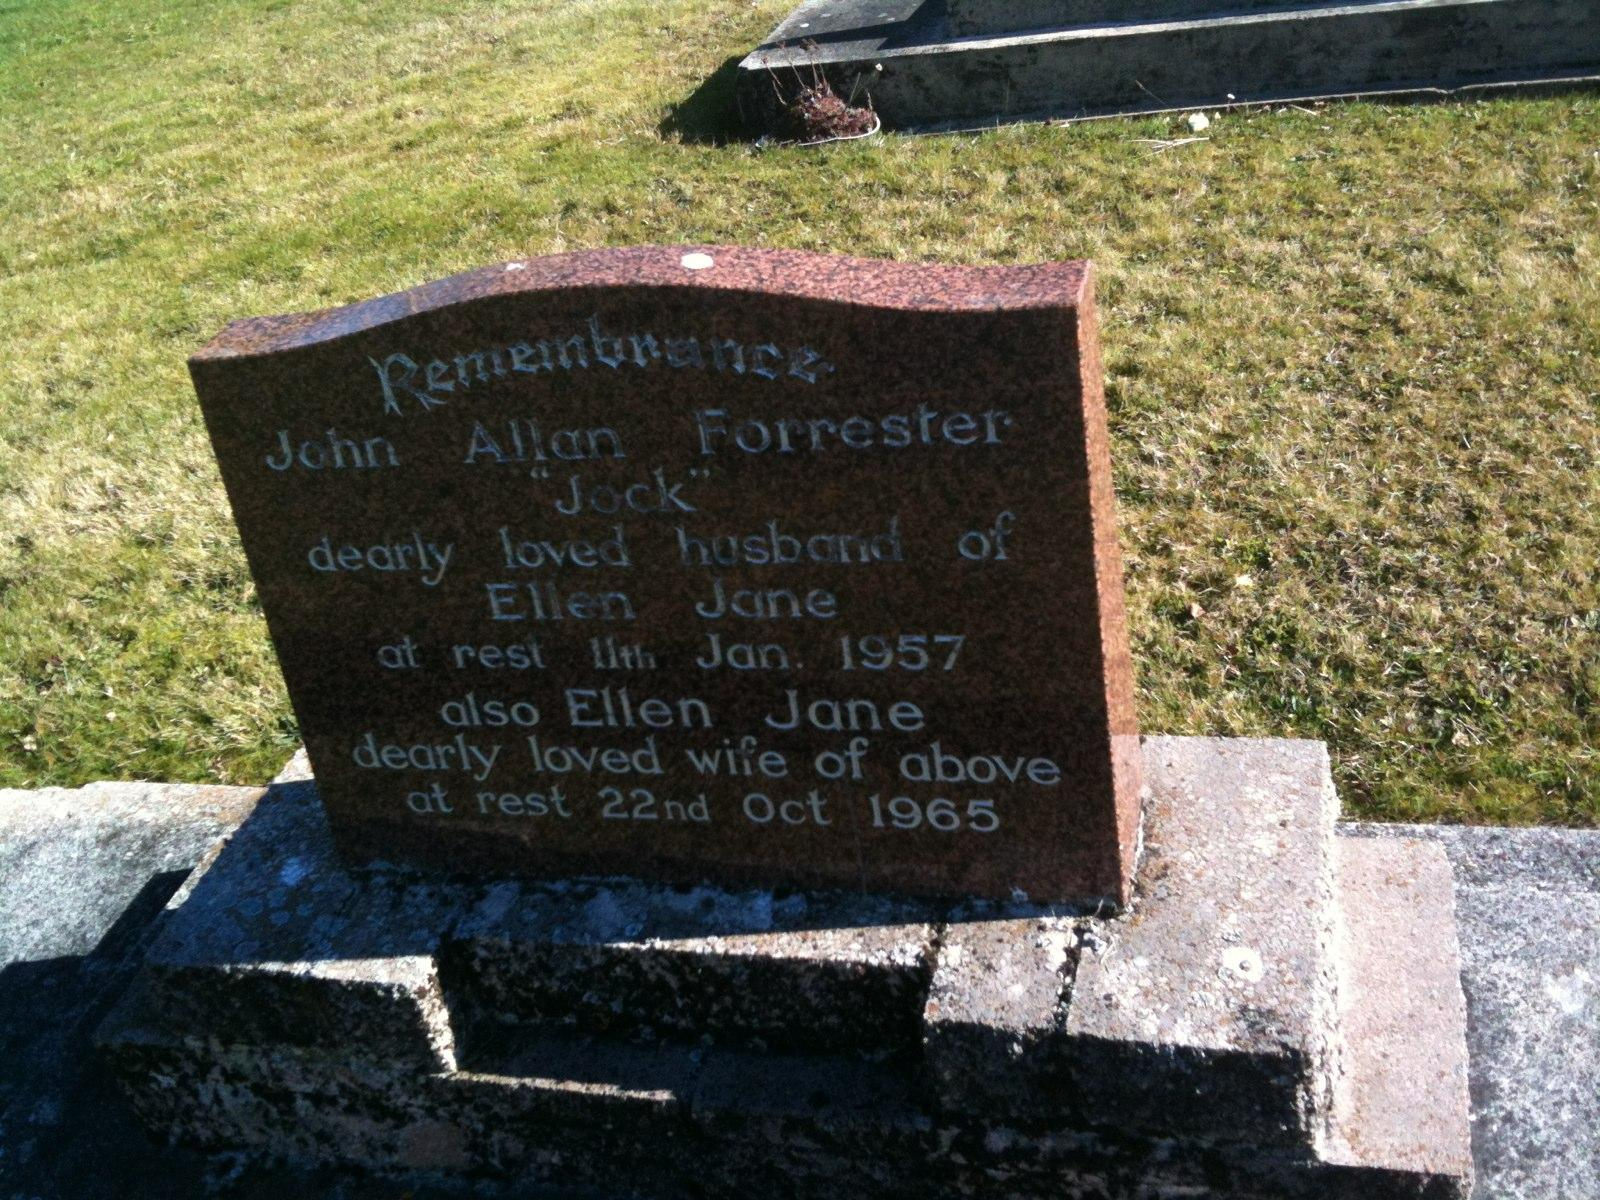upright: (83, 246, 1473, 1189)
